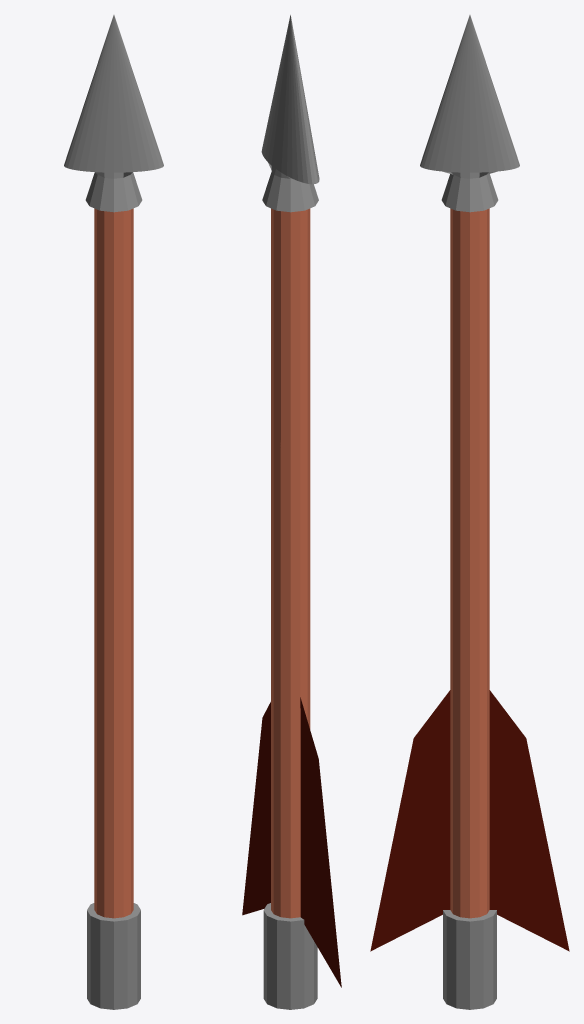
File: projectile_arrow.fbx
3 renders of one model, left to right at view 1: azimuth 90°, elevation 25°; view 2: azimuth 210°, elevation 25°; view 3: azimuth 270°, elevation 25°, orthographic.
Parts seen in each view (by area): view 1: Cylinder; view 2: Cylinder; view 3: Cylinder.
Part boxes in pixels (left/top/right/bottom): Cylinder: left=64, top=15, right=163, bottom=1009; Cylinder: left=242, top=15, right=341, bottom=1009; Cylinder: left=370, top=15, right=569, bottom=1009.
Bounding box in the file's own units: 9.05 × 173 × 31.73.
